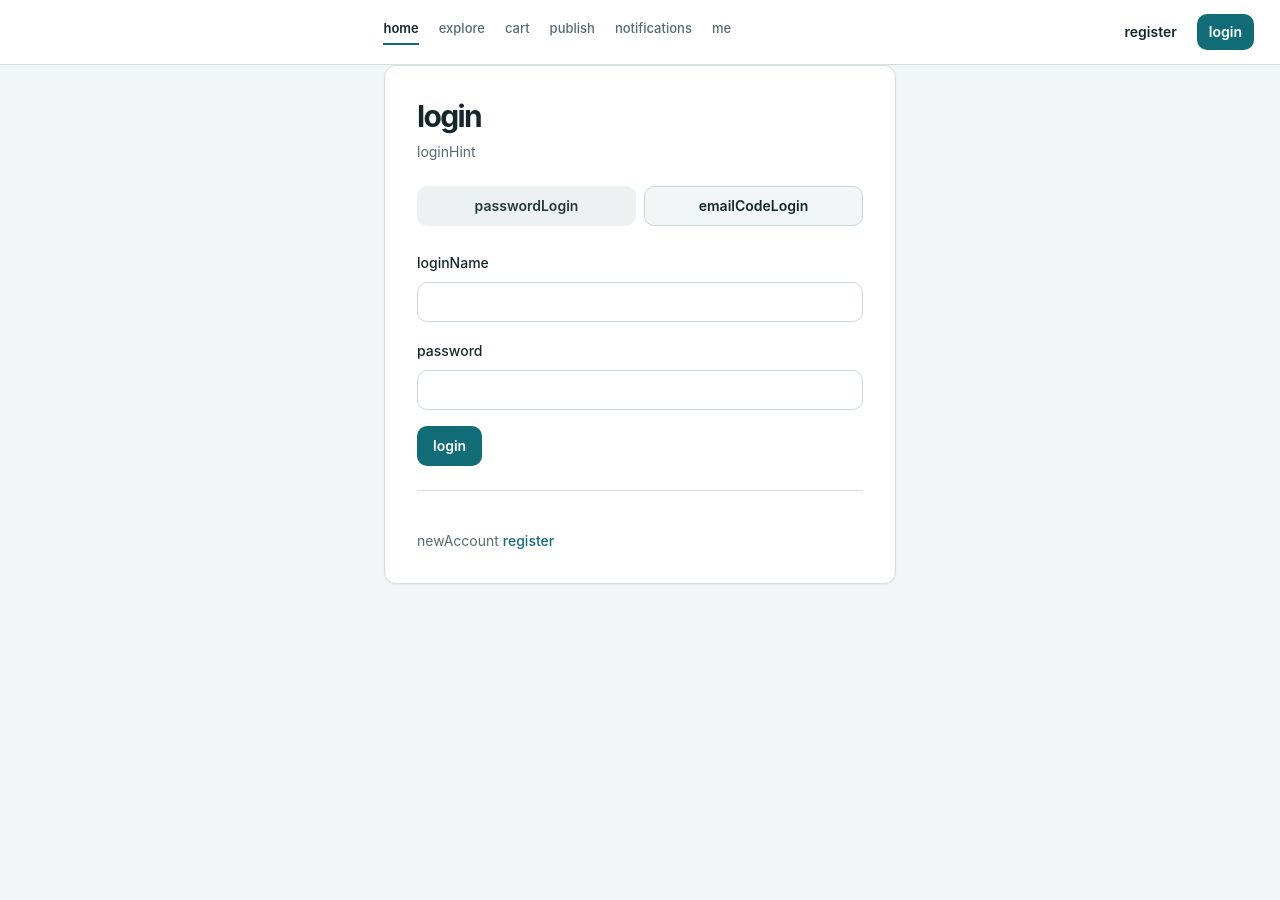
Test case: closes the TopNav dialog after email verification succeeds
Click the button "login" in the row of "notifications" at {"x": 1225, "y": 32}, box left=1197, top=14, right=1254, bottom=50
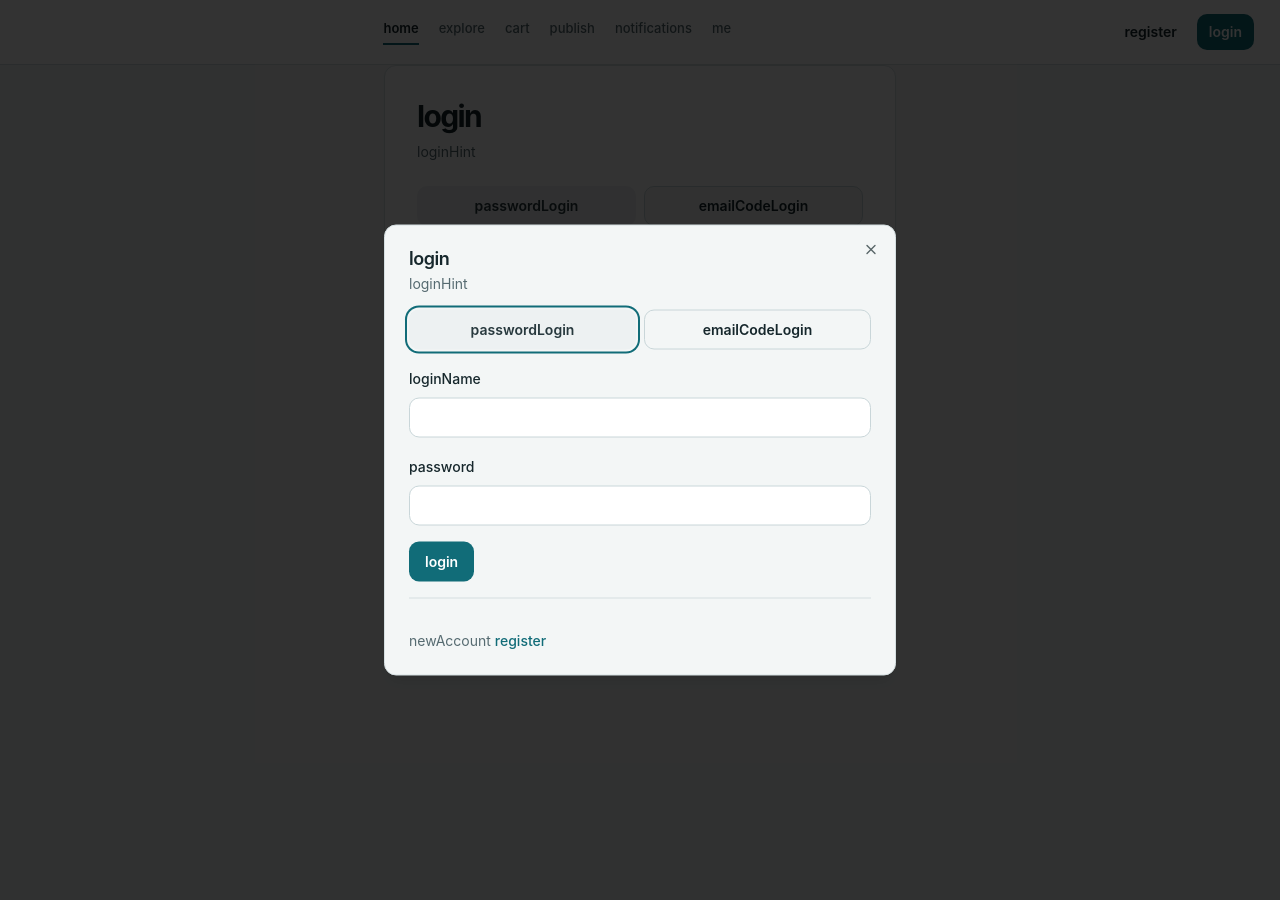
Click the button "emailCodeLogin" at {"x": 758, "y": 330}, box left=644, top=310, right=871, bottom=350
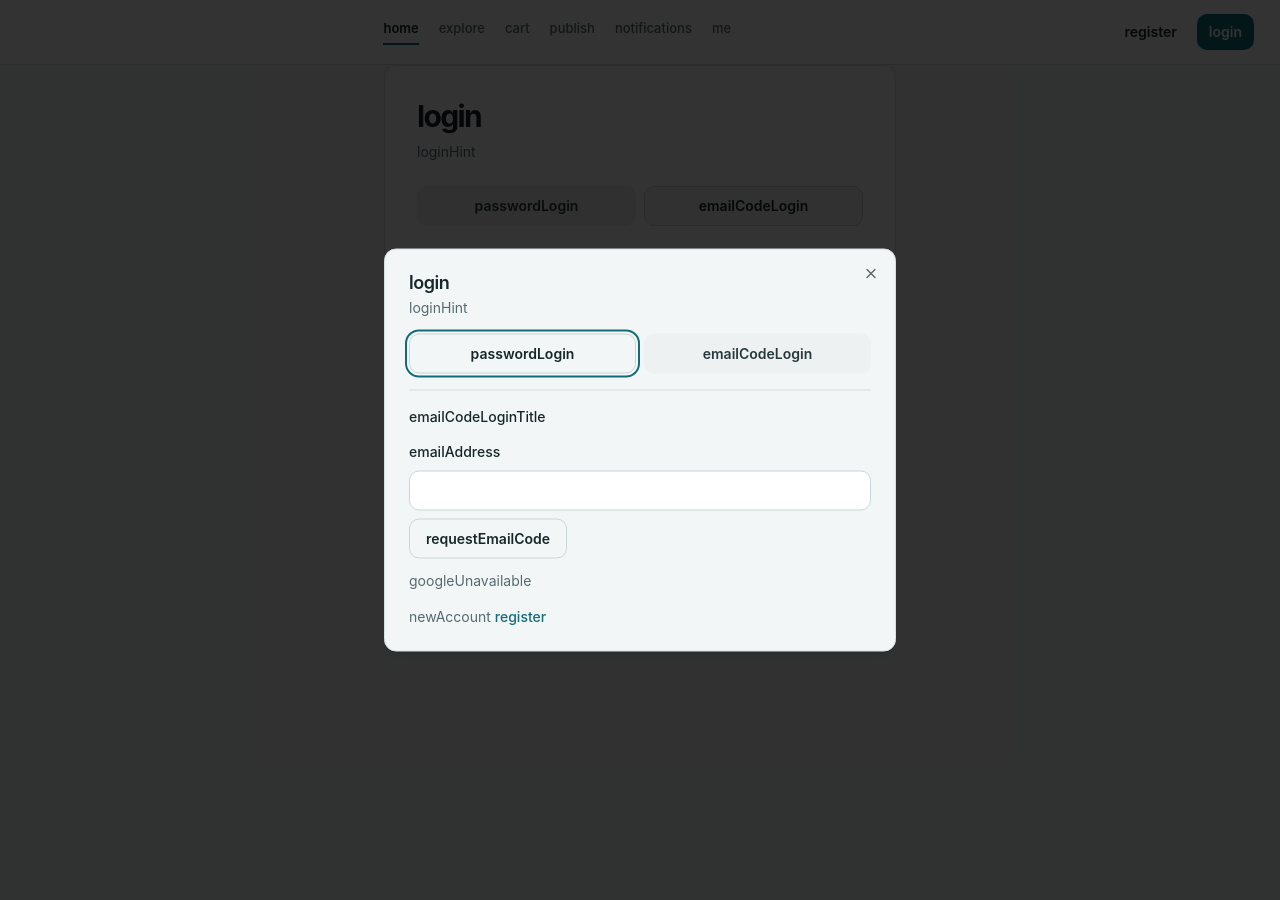
Type "user@gmail.com" into the field labelled "emailAddress" at {"x": 640, "y": 490}, box left=409, top=470, right=871, bottom=510
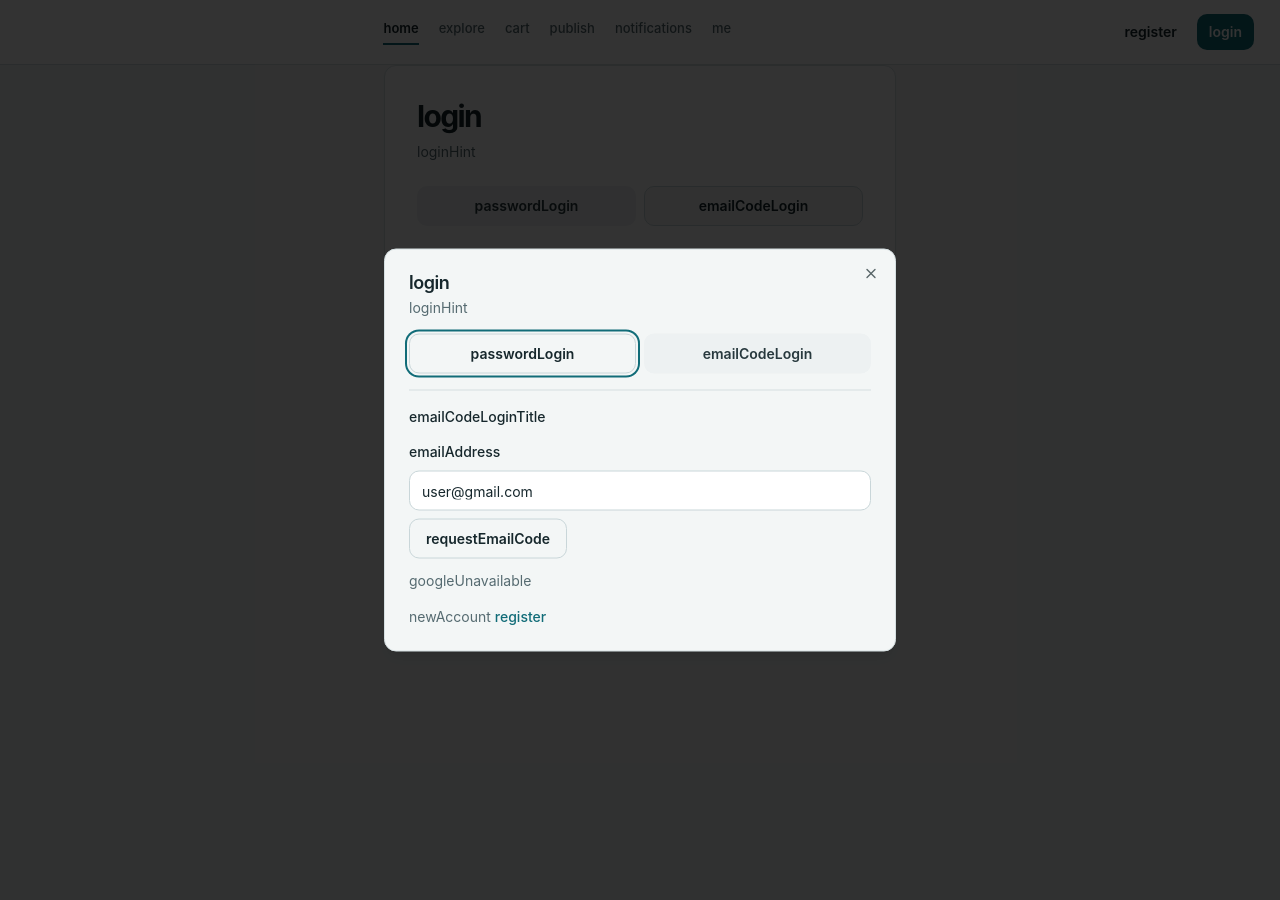
Click the button "requestEmailCode" at {"x": 488, "y": 538}, box left=409, top=518, right=567, bottom=558
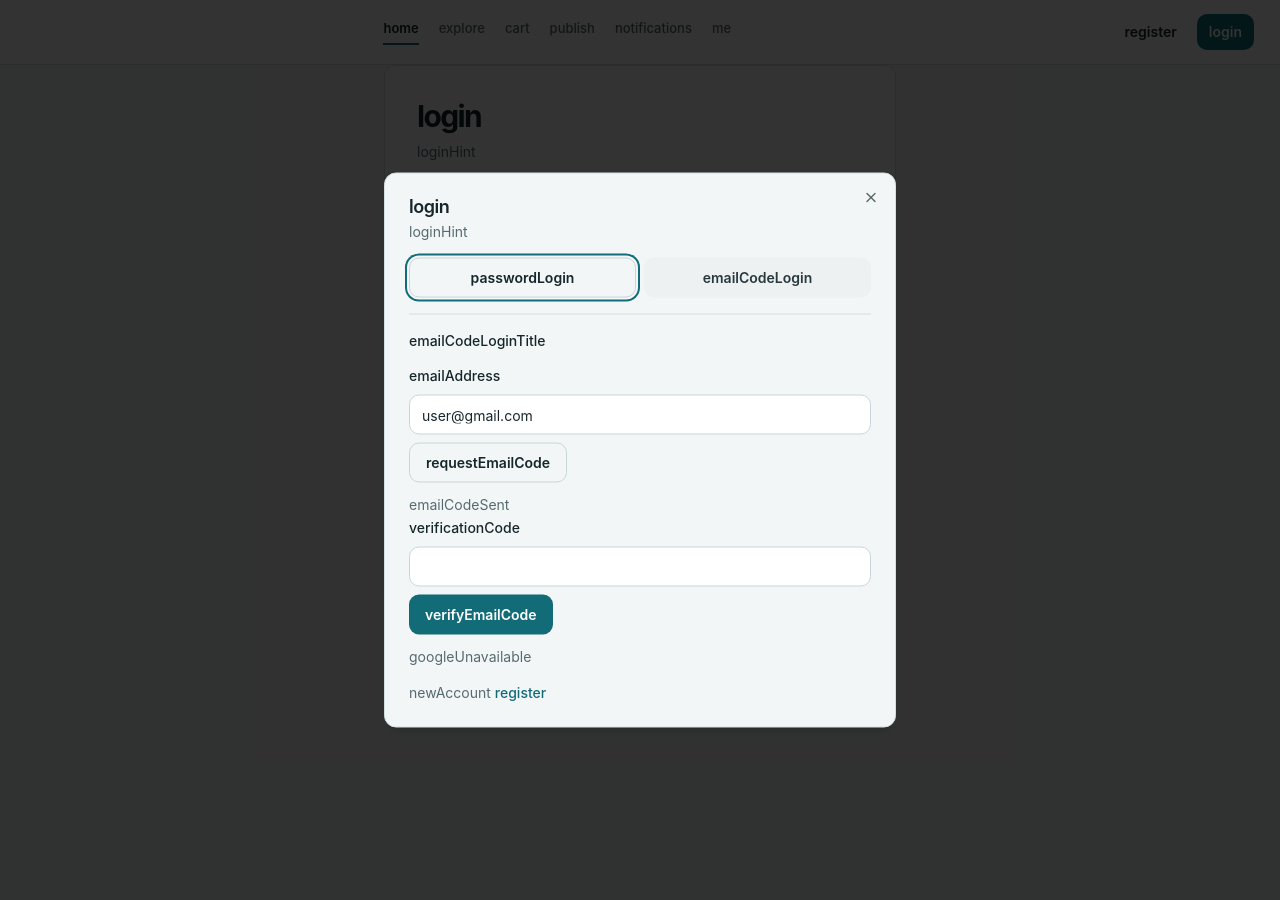
Type "123456" into the field labelled "verificationCode" at {"x": 640, "y": 566}, box left=409, top=546, right=871, bottom=586
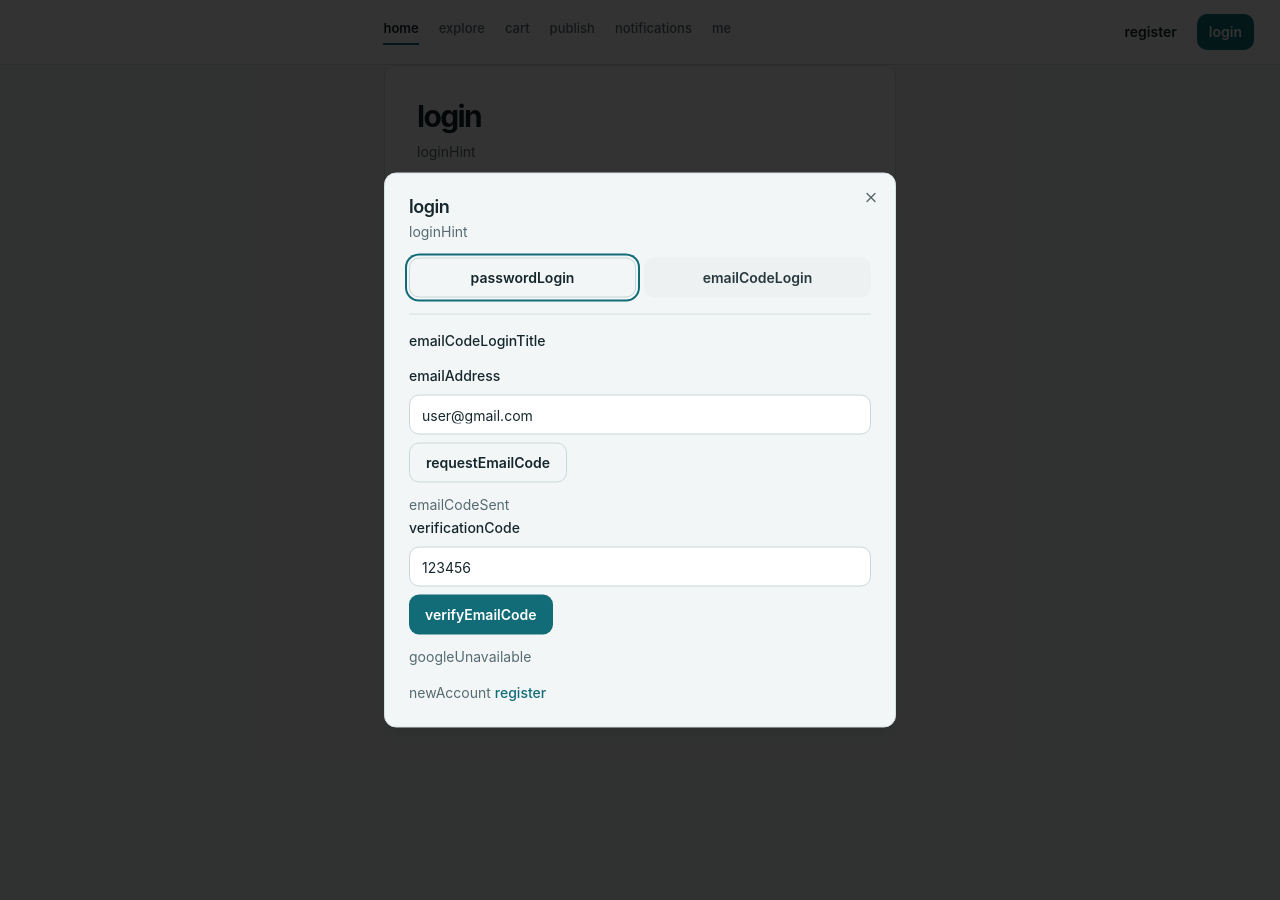
Click the button "verifyEmailCode" at {"x": 481, "y": 614}, box left=409, top=594, right=553, bottom=634
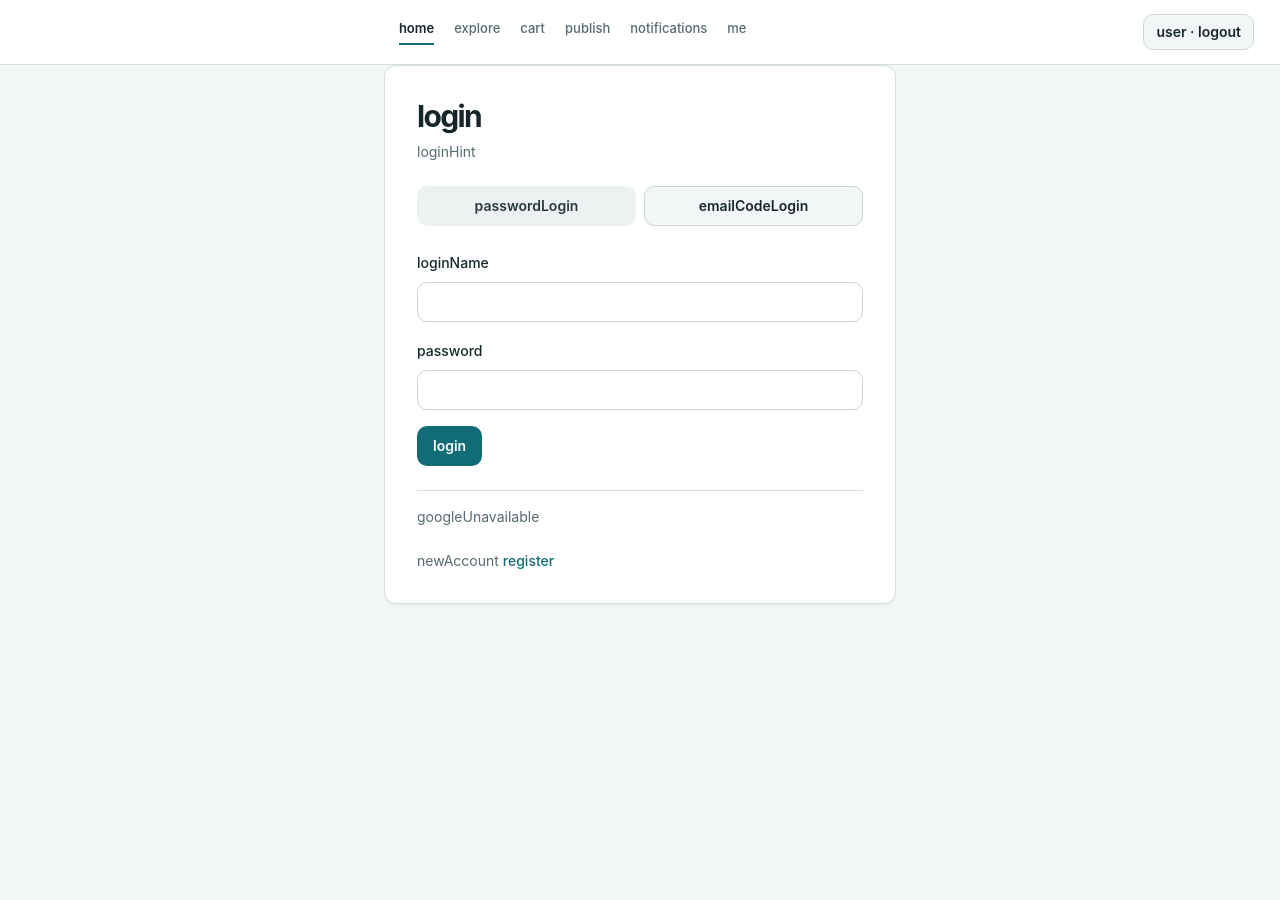
Result: the dialog is gone
